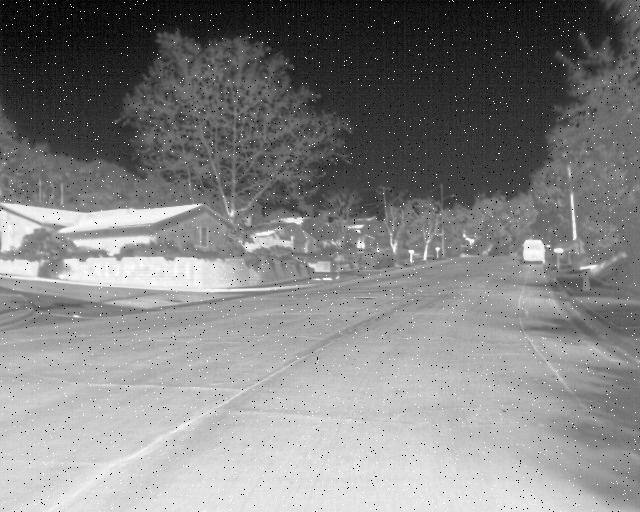car: (518, 235, 553, 274)
